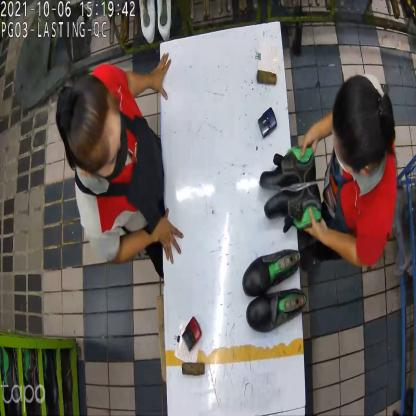shoes: (256, 144, 321, 234), (242, 252, 307, 332)
stamp: (179, 315, 203, 351), (258, 105, 277, 139)
